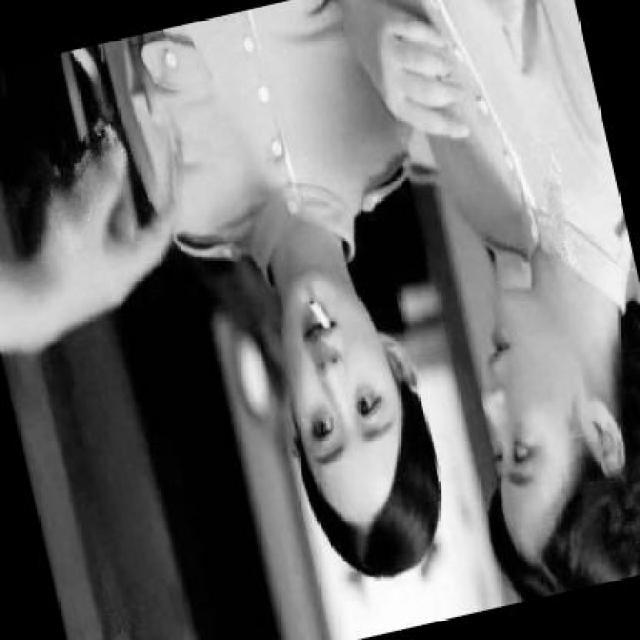cigarette: (303, 288, 332, 332)
